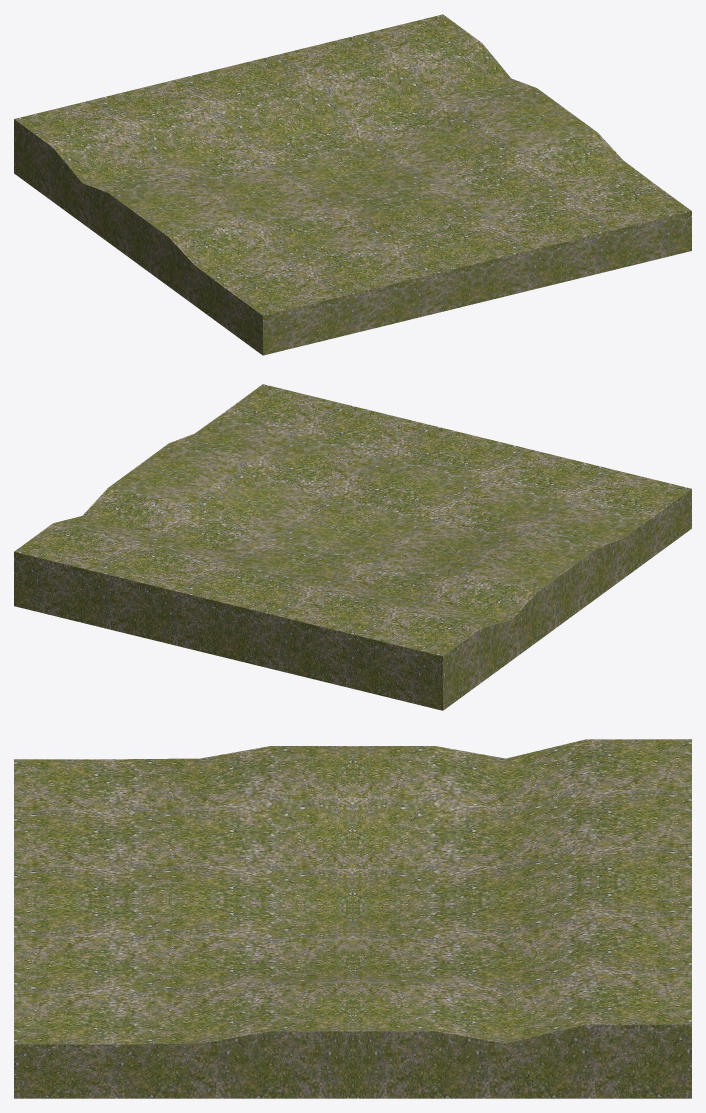
The model's file is Ground.fbx.
3 renders of one model, top to bottom at view 1: azimuth 30°, elevation 25°; view 2: azimuth 150°, elevation 25°; view 3: azimuth 270°, elevation 25°, orthographic. The views are drawn at different scales.
Visible parts, largest first — view 1: Ground; view 2: Ground; view 3: Ground.
Part boxes in pixels (x1,y1,x2,y2): Ground: (14,14,691,355); Ground: (14,384,691,710); Ground: (14,739,691,1098).
Size of the model in its own units: 26.58 by 3.2 by 26.45.
